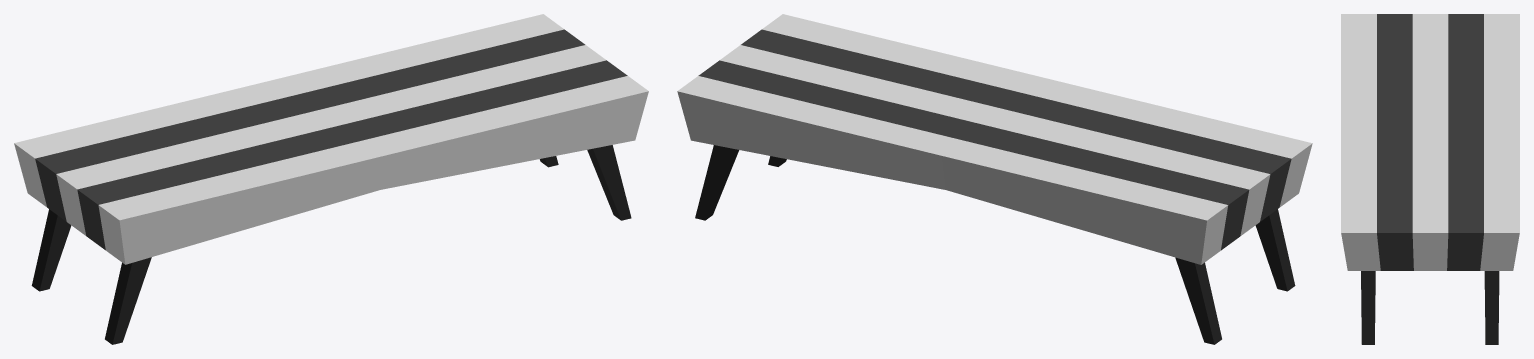
Rendered from CTable_1.fbx.
3 renders of one model, left to right at view 1: azimuth 30°, elevation 25°; view 2: azimuth 150°, elevation 25°; view 3: azimuth 270°, elevation 25°, orthographic. The views are drawn at different scales.
Parts seen in each view (by area): view 1: CTable_1; view 2: CTable_1; view 3: CTable_1.
Boxes of the visible parts, box(x1,y1,x2,y2) form: CTable_1: box(14, 14, 648, 344); CTable_1: box(677, 14, 1312, 344); CTable_1: box(1341, 14, 1519, 344).
Bounding box in the file's own units: 217 × 52.86 × 75.
